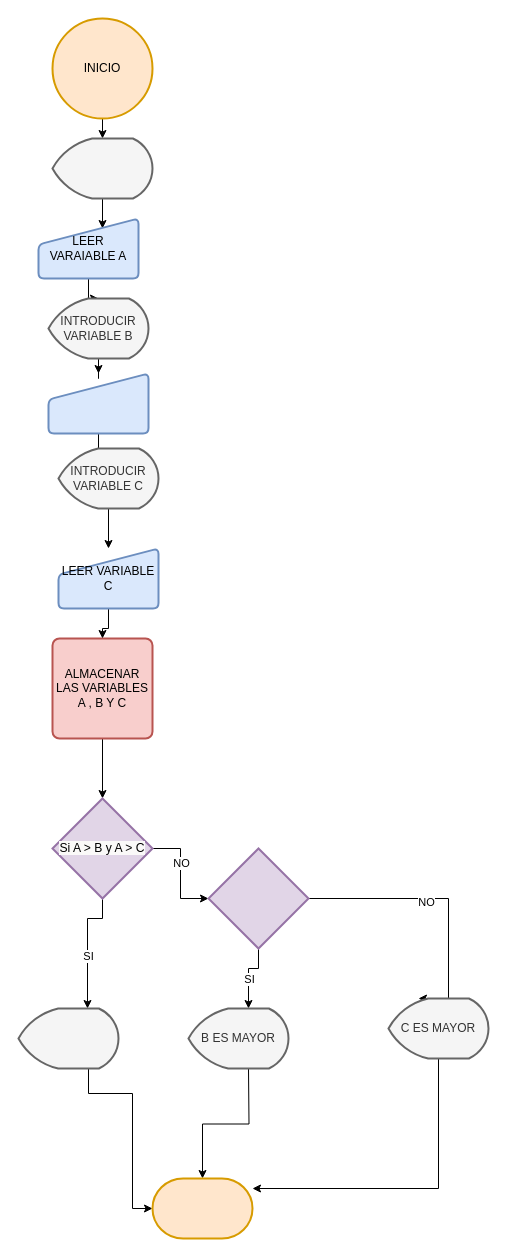
Image size: 506x1256. Some labels were removed from this diagram. The shapes that lost their labels are listed below. From the top down, each one's centre as x and y in pixels, then its label:
At (102,168): "INTRODUCIR VARIABLE A".
At (98,403): "LEER VARIABLE B".
At (258,898): "Si B > A y B > C".
At (68,1038): "A ES MAYOR".
At (202,1208): "FIN".
